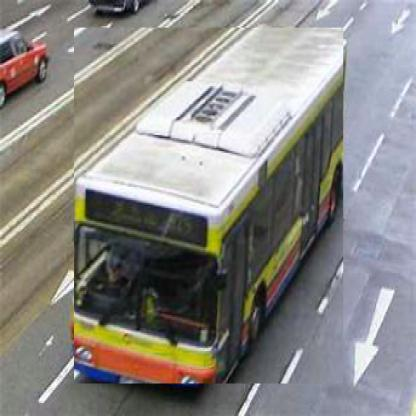bus: (75, 29, 345, 386)
